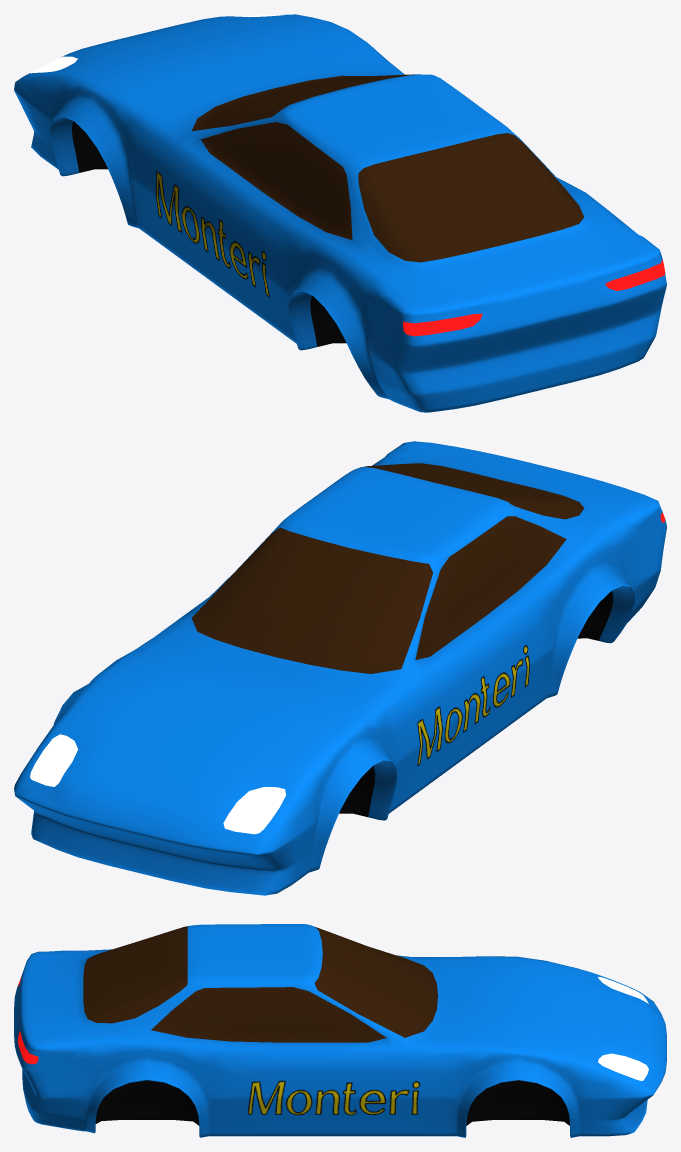
The model's file is Monteri.glb.
The picture shows the model from 3 angles, top to bottom: view 1: azimuth 30°, elevation 25°; view 2: azimuth 150°, elevation 25°; view 3: azimuth 270°, elevation 25°; orthographic projection. The views are drawn at different scales.
Visible parts, largest first — view 1: Monteri; view 2: Monteri; view 3: Monteri.
Boxes of the visible parts, x1,y1,x2,y2 form: Monteri: [14, 14, 666, 412]; Monteri: [14, 441, 666, 895]; Monteri: [14, 924, 666, 1137].
Size of the model in its own units: 1.89 by 1.08 by 4.58.
5 materials, 5 textured.
